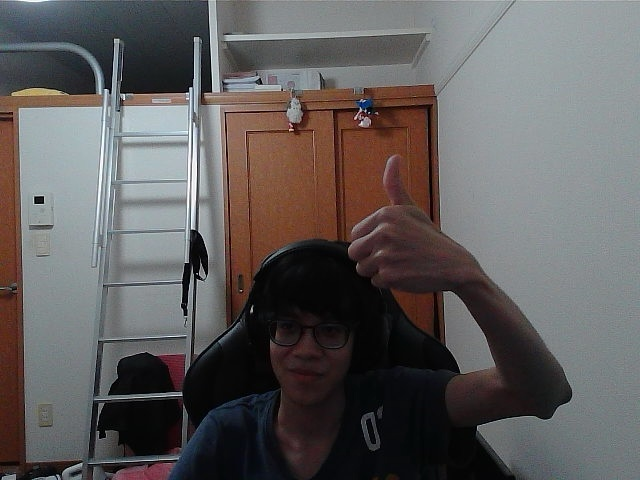thumb_up: (354, 164, 449, 283)
